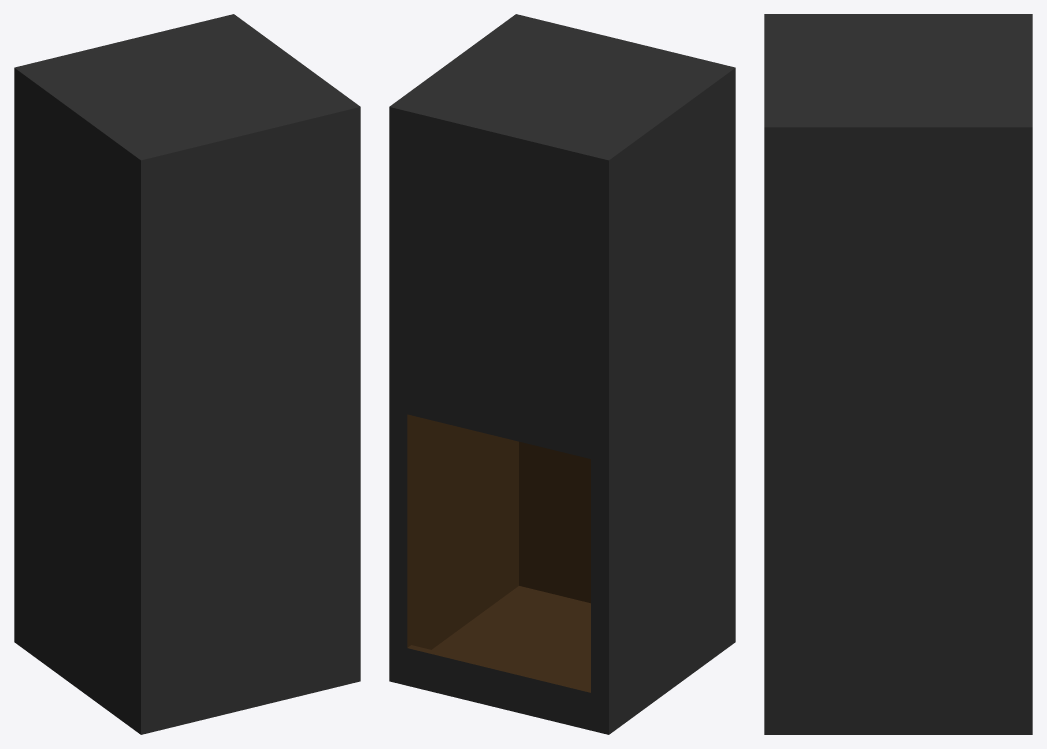
File: BlackWoodenBox.fbx
3 renders of one model, left to right at view 1: azimuth 30°, elevation 25°; view 2: azimuth 150°, elevation 25°; view 3: azimuth 270°, elevation 25°, orthographic. The views are drawn at different scales.
Parts seen in each view (by area): view 1: BlackWoodenBox; view 2: BlackWoodenBox; view 3: BlackWoodenBox.
Boxes of the visible parts, x1,y1,x2,y2 form: BlackWoodenBox: [14, 14, 360, 734]; BlackWoodenBox: [389, 14, 735, 734]; BlackWoodenBox: [764, 14, 1032, 734].
Bounding box in the file's own units: 0.305 × 0.762 × 0.305.
